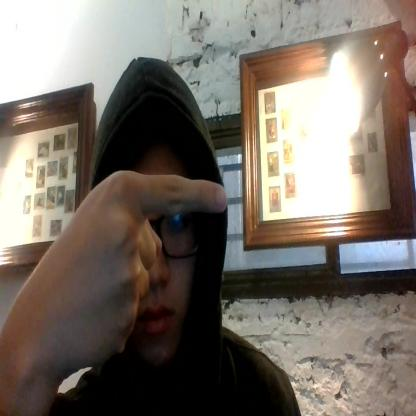left: (39, 166, 230, 351)
